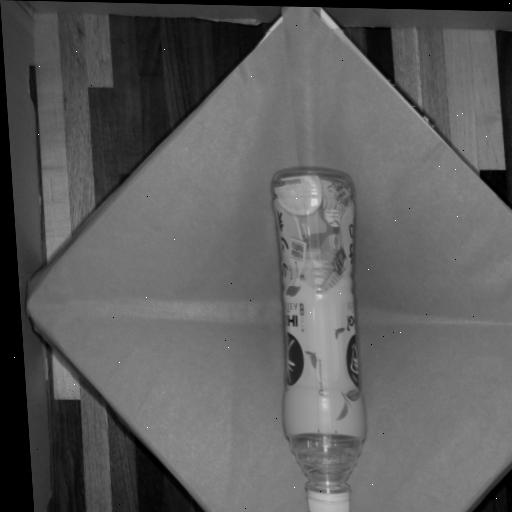bottle: (261, 168, 377, 512)
